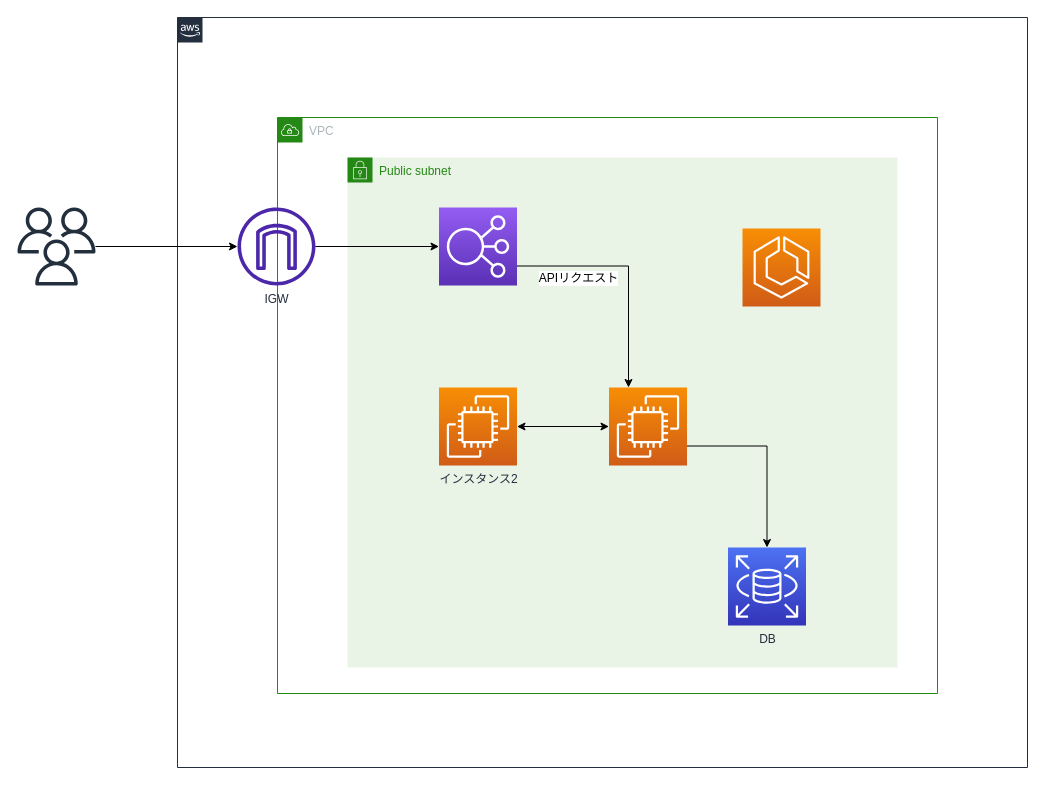
The diagram is 1045 pixels wide and 785 high, and some of its shapes have lost their labels. Here are the shapes that lost their labels. From the top down, the centre of each, then its label:
At (56,246): "ユーザー".
At (477,246): "ALB".
At (647,426): "インスタンス1".
